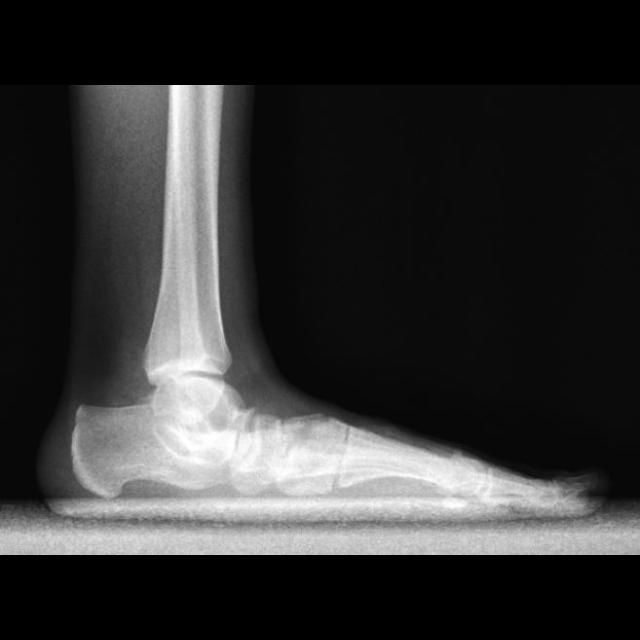a: (71, 405, 236, 499)
b: (230, 415, 282, 496)
c: (340, 424, 489, 511)
